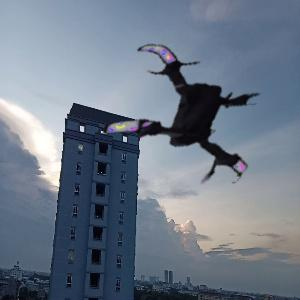drone: (102, 29, 284, 211)
